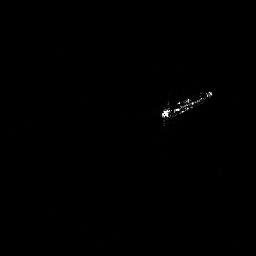ship: (158, 85, 216, 123)
